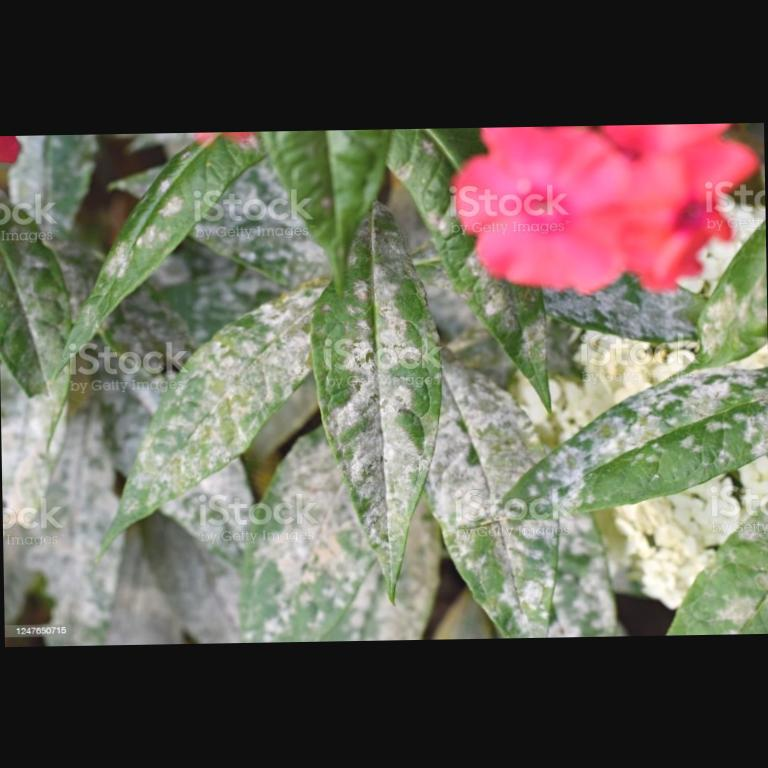powdery-mildew: (334, 394, 424, 470)
